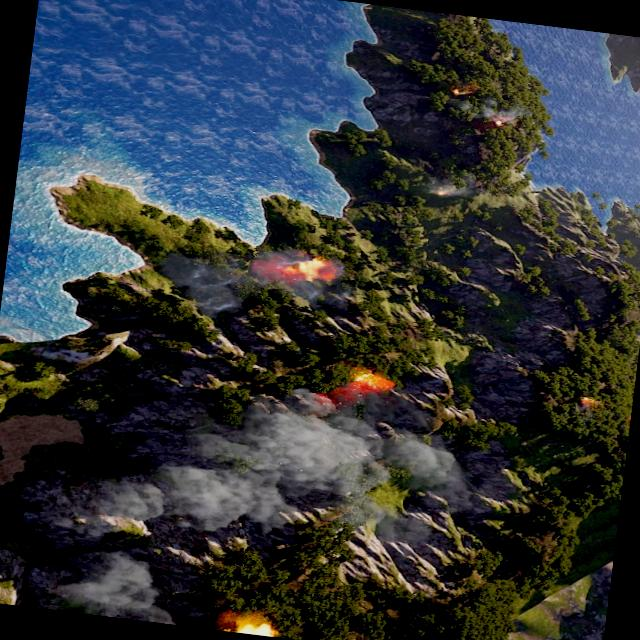fire: (346, 367, 394, 392), (291, 256, 331, 282), (232, 616, 274, 636), (578, 394, 600, 408), (448, 86, 472, 98), (490, 116, 504, 128), (434, 190, 448, 198)
smoke: (46, 358, 515, 640), (142, 234, 359, 335), (446, 95, 530, 128), (421, 176, 479, 205)
